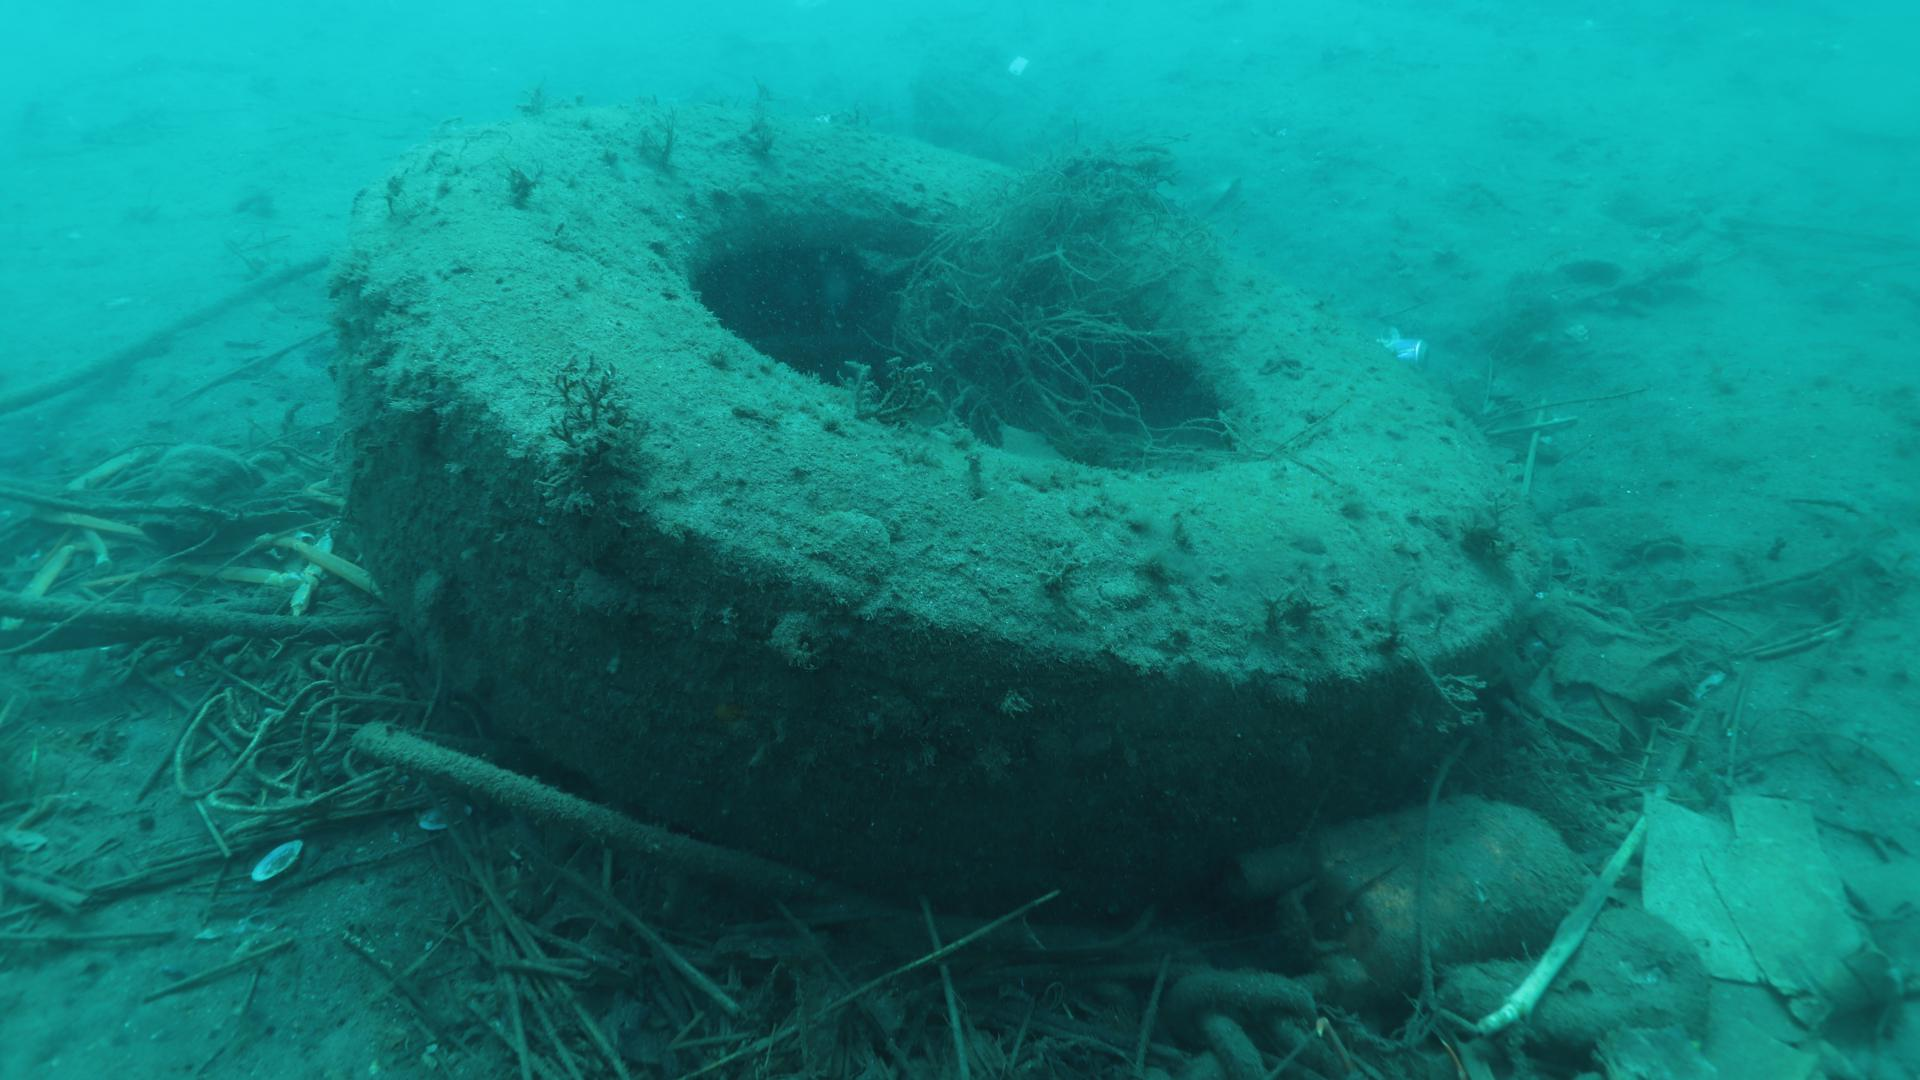tire: (330, 98, 1540, 905)
